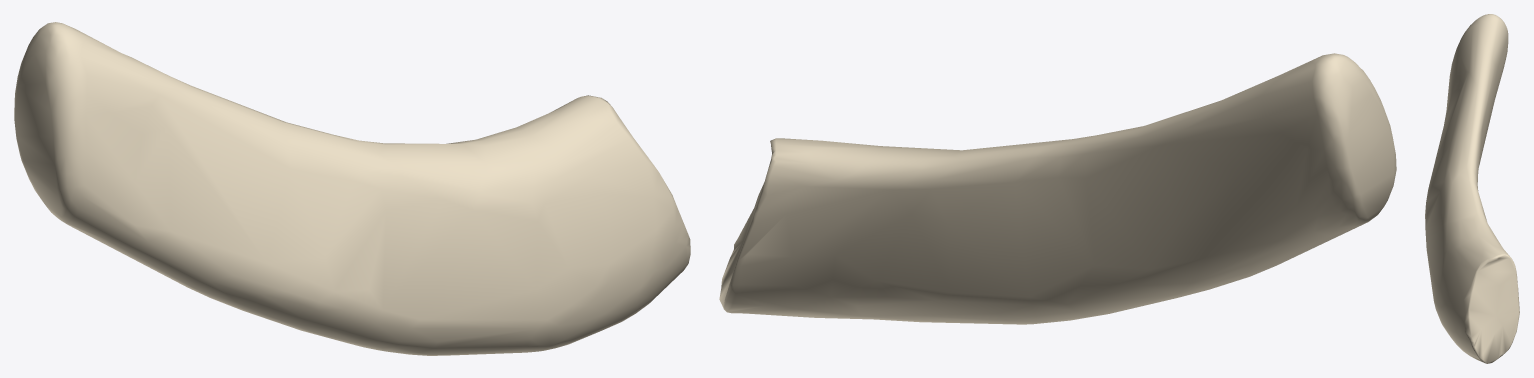
Rendered from costal-cartilage-of-fifth-rib-l.glb.
3 renders of one model, left to right at view 1: azimuth 30°, elevation 25°; view 2: azimuth 150°, elevation 25°; view 3: azimuth 270°, elevation 25°, orthographic. The views are drawn at different scales.
Parts seen in each view (by area): view 1: Costal cartilage of fifth rib.l; view 2: Costal cartilage of fifth rib.l; view 3: Costal cartilage of fifth rib.l.
Part boxes in pixels (box(x1,y1,x2,y2)): Costal cartilage of fifth rib.l: box(14, 22, 690, 355); Costal cartilage of fifth rib.l: box(719, 53, 1396, 324); Costal cartilage of fifth rib.l: box(1425, 14, 1519, 363).
Bounding box in the file's own units: 0.0658 × 0.0394 × 0.0166.
